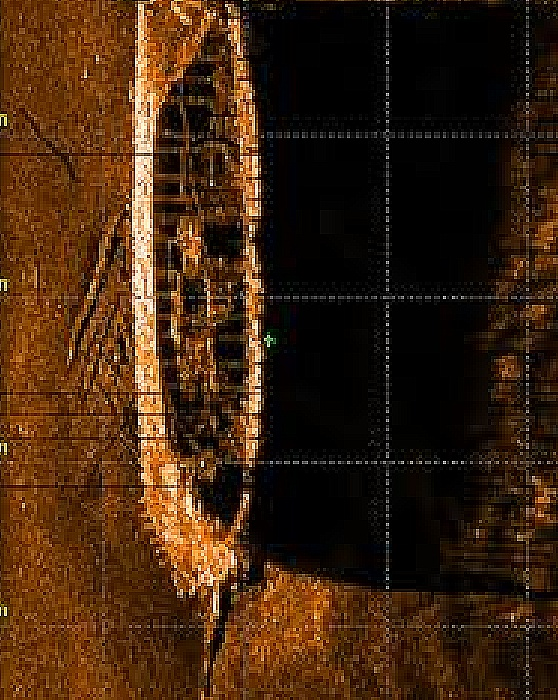ship: (128, 1, 266, 621)
